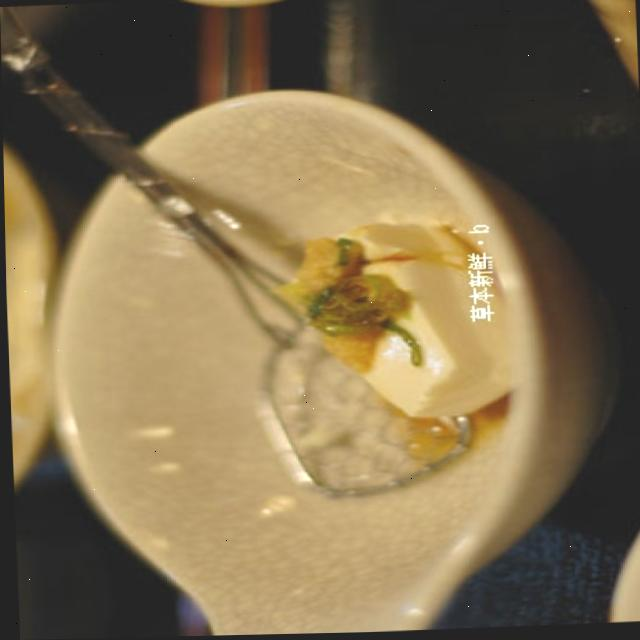豆腐料理: (52, 70, 573, 628)
